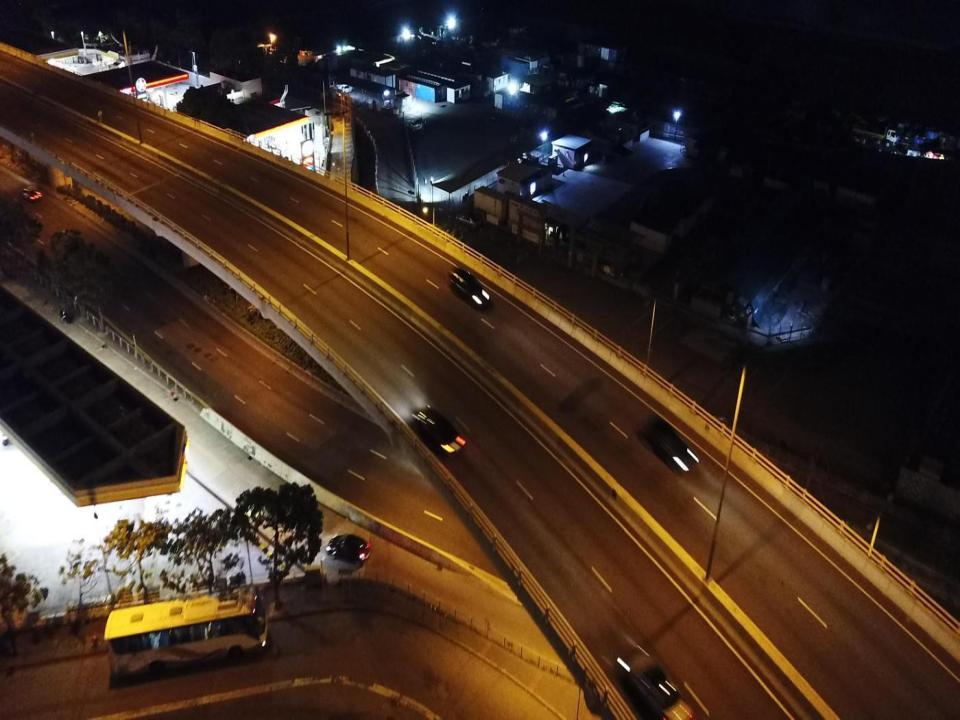bus: (104, 586, 268, 678)
car: (620, 652, 698, 719), (640, 416, 699, 474), (412, 402, 466, 456), (449, 268, 491, 310), (326, 534, 371, 566), (456, 212, 482, 229), (18, 186, 42, 203), (408, 118, 424, 131), (338, 83, 355, 93)
truck: (852, 125, 898, 148)
